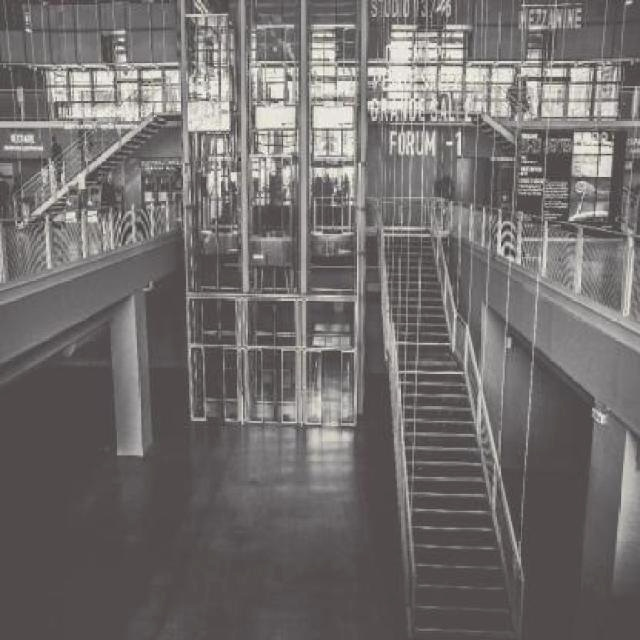stair: (385, 237, 514, 640)
